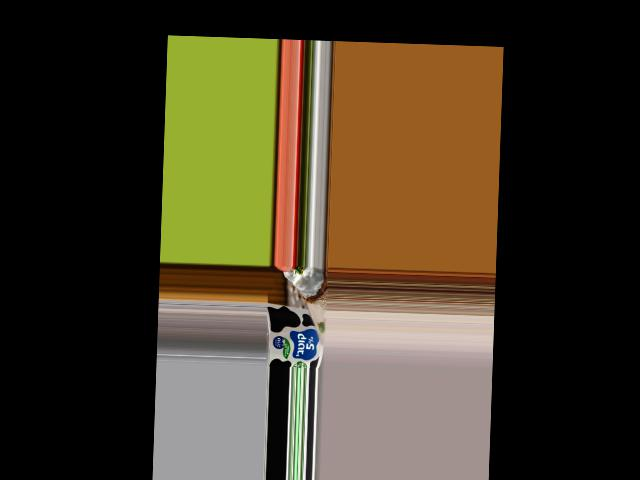cotage: (265, 306, 323, 368)
